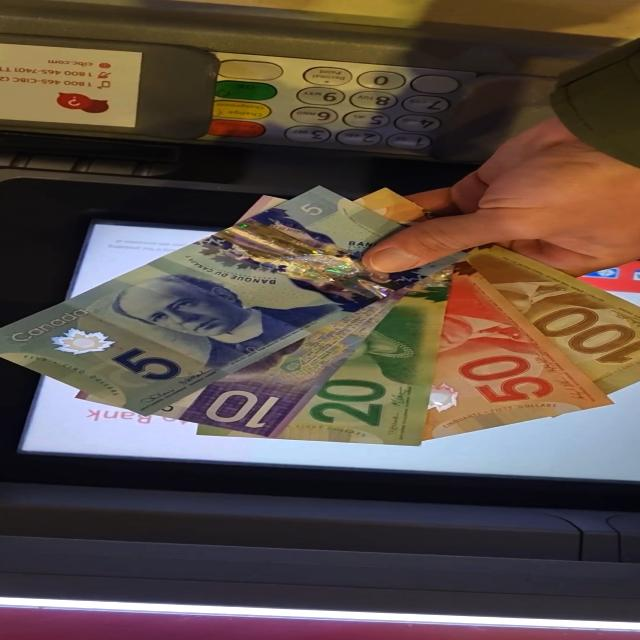10 cad: (161, 296, 403, 435)
100 cad: (459, 244, 640, 395)
20 cad: (281, 272, 449, 444)
5 cad: (0, 213, 416, 415)
50 cad: (428, 261, 609, 439)
